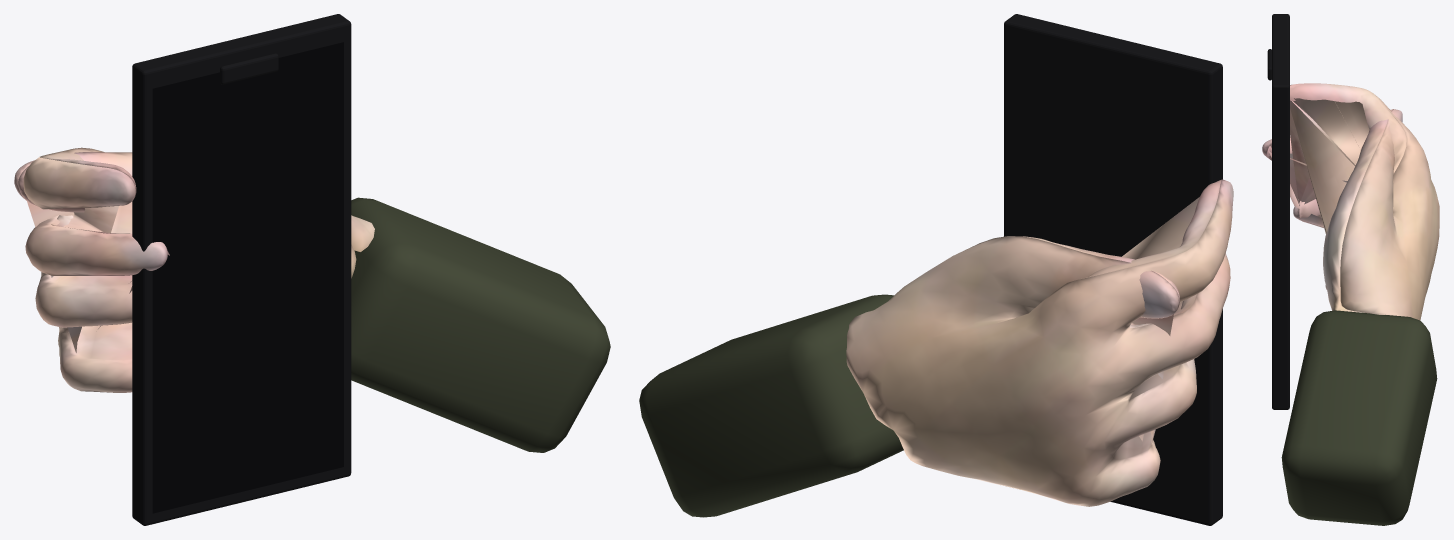
The model's file is hand_handy.glb.
3 views of the same model, side by side, from view 1: azimuth 30°, elevation 25°; view 2: azimuth 150°, elevation 25°; view 3: azimuth 270°, elevation 25° (orthographic). The views are drawn at different scales.
Visible parts, largest first — view 1: bildschirm, hand, handy; view 2: hand, handy; view 3: hand, handy.
Boxes of the visible parts, x1,y1,x2,y2 form: bildschirm: (152, 42, 343, 513); hand: (14, 147, 610, 452); handy: (132, 14, 351, 525); hand: (639, 179, 1233, 517); handy: (1004, 14, 1222, 525); hand: (1262, 83, 1439, 525); handy: (1267, 14, 1289, 409).
Bounding box in the file's own units: 0.1921 × 0.1651 × 0.0743.
4 materials, 1 textured.
